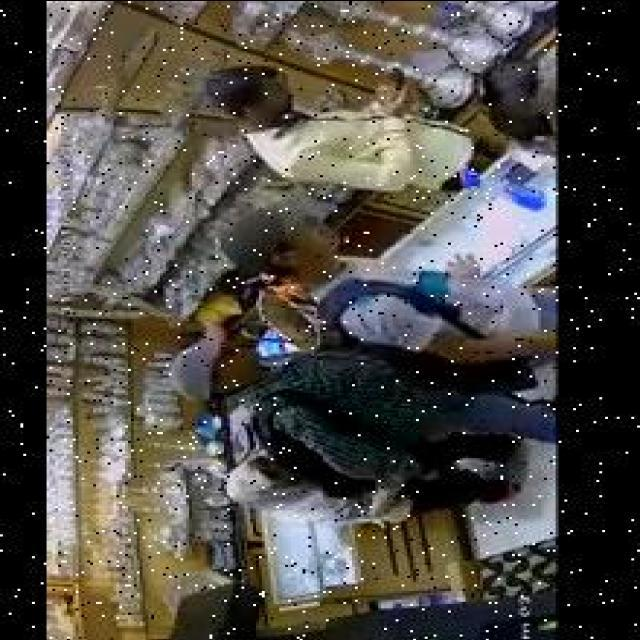Shoplifting: (156, 190, 548, 546)
